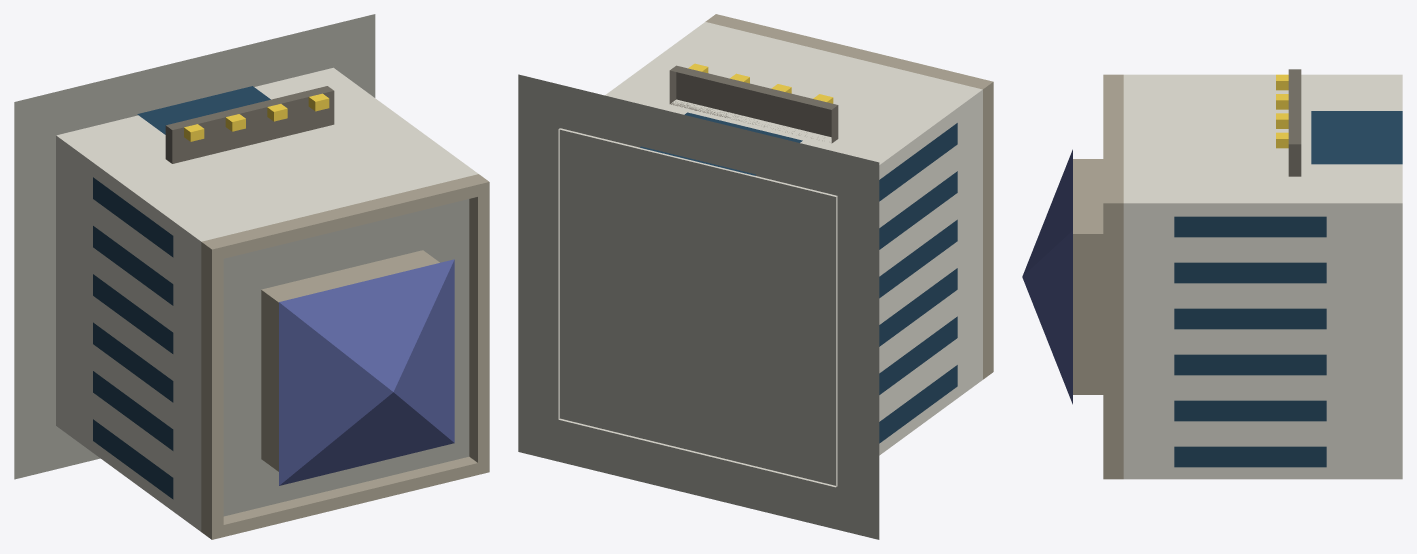
The model's file is complete.glb.
3 renders of one model, left to right at view 1: azimuth 30°, elevation 25°; view 2: azimuth 150°, elevation 25°; view 3: azimuth 270°, elevation 25°, orthographic. The views are drawn at different scales.
Parts seen in each view (by area): view 1: done; view 2: done; view 3: done.
Boxes of the visible parts, x1,y1,x2,y2 form: done: (14, 14, 489, 539); done: (518, 14, 993, 539); done: (1022, 69, 1402, 479).
Bounding box in the file's own units: 15.6 × 15.6 × 15.
